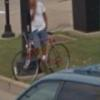bicycles: (12, 32, 70, 82)
